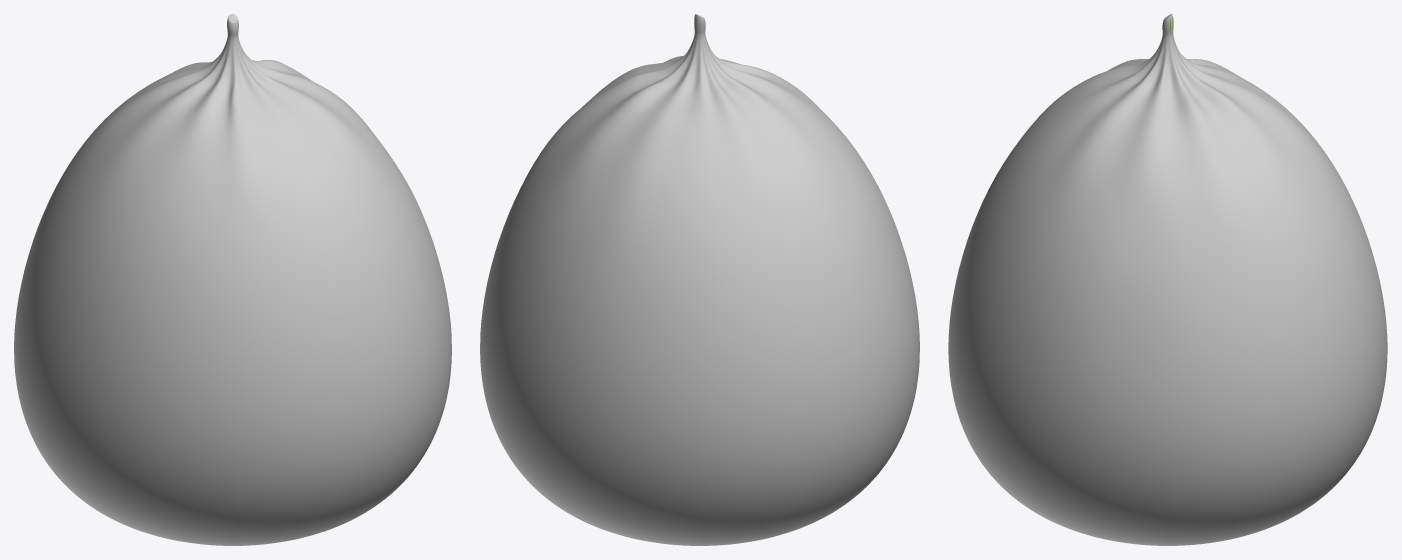
The model's file is Fig.fbx.
The picture shows the model from 3 angles, left to right: view 1: azimuth 30°, elevation 25°; view 2: azimuth 150°, elevation 25°; view 3: azimuth 270°, elevation 25°; orthographic projection.
Parts seen in each view (by area): view 1: Sphere; view 2: Sphere; view 3: Sphere.
Part boxes in pixels (x1,y1,x2,y2): Sphere: (14, 14, 451, 545); Sphere: (480, 14, 919, 545); Sphere: (948, 14, 1387, 545).
Size of the model in its own units: 24.69 by 30.74 by 24.69.
